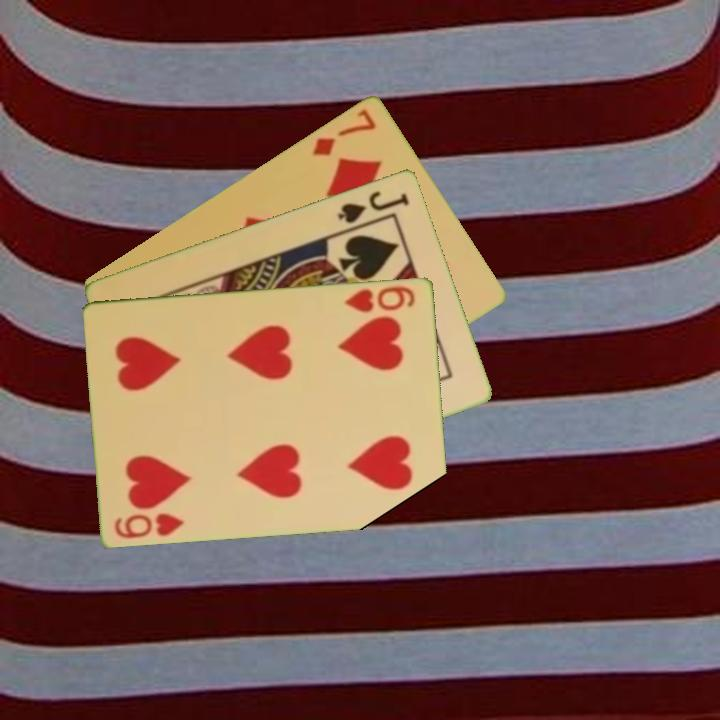6h: (342, 282, 418, 315), (111, 509, 188, 541)
7d: (309, 105, 379, 158)
Js: (334, 186, 413, 226)
